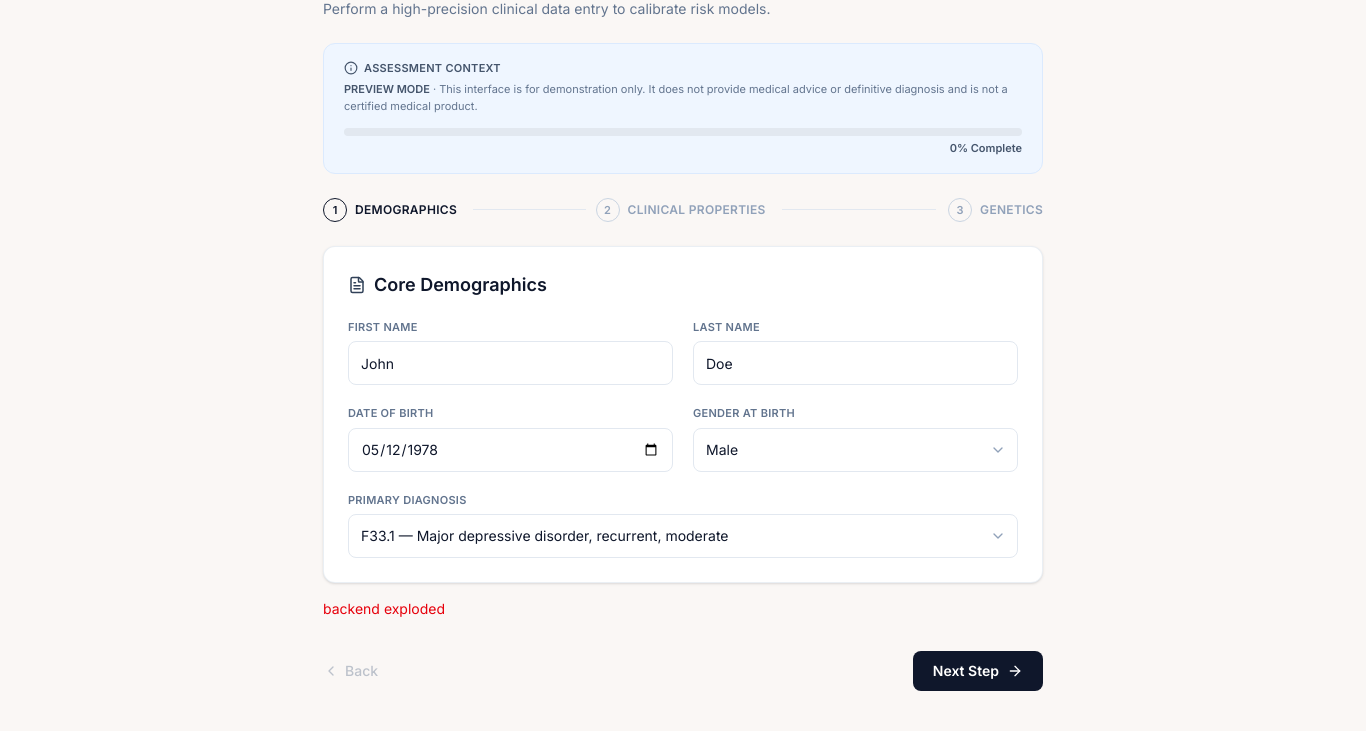
Test case: IntakeView › shows a submit error and disables the calculate button while submitting
The image size is (1366, 731).
(page scrolled)
Click the button "Next Step": (978, 671) x1=913 y1=651 x2=1043 y2=691
(page scrolled)
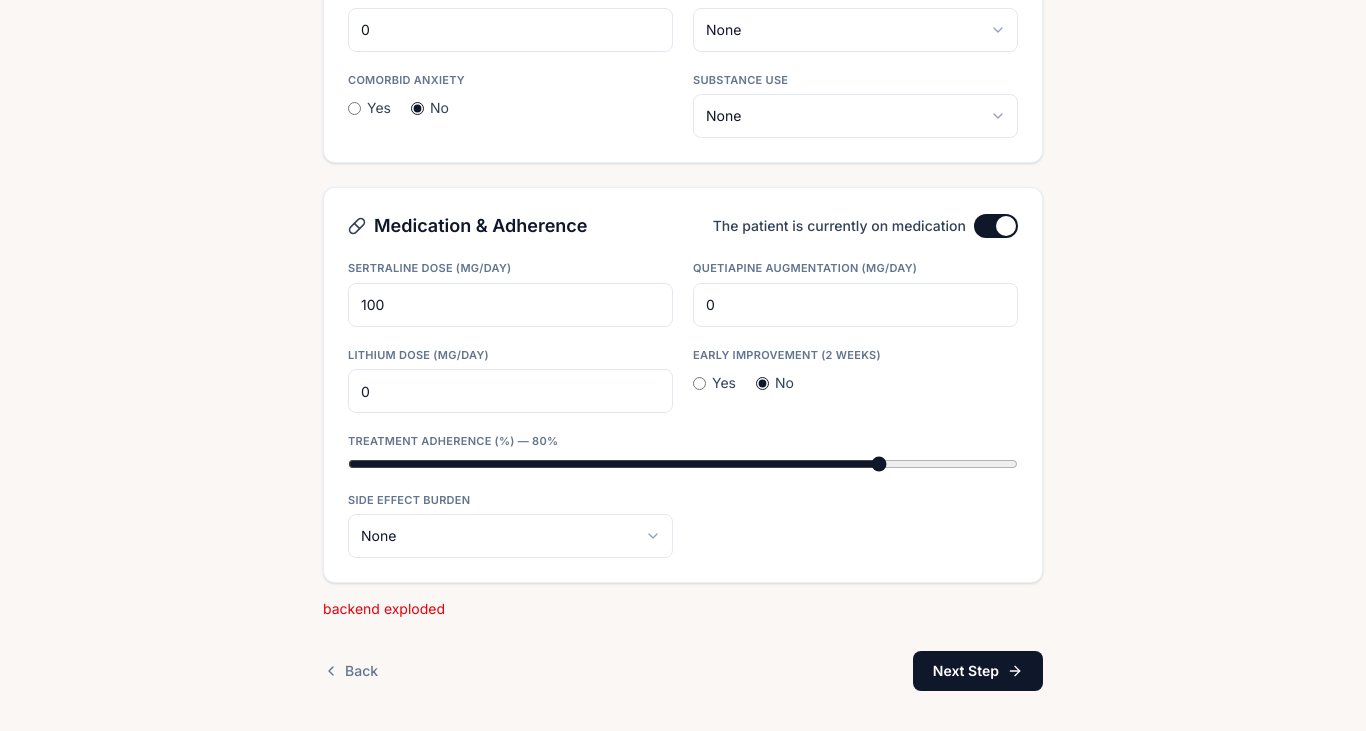
Click the button "Next Step": (978, 671) x1=913 y1=651 x2=1043 y2=691
(page scrolled)
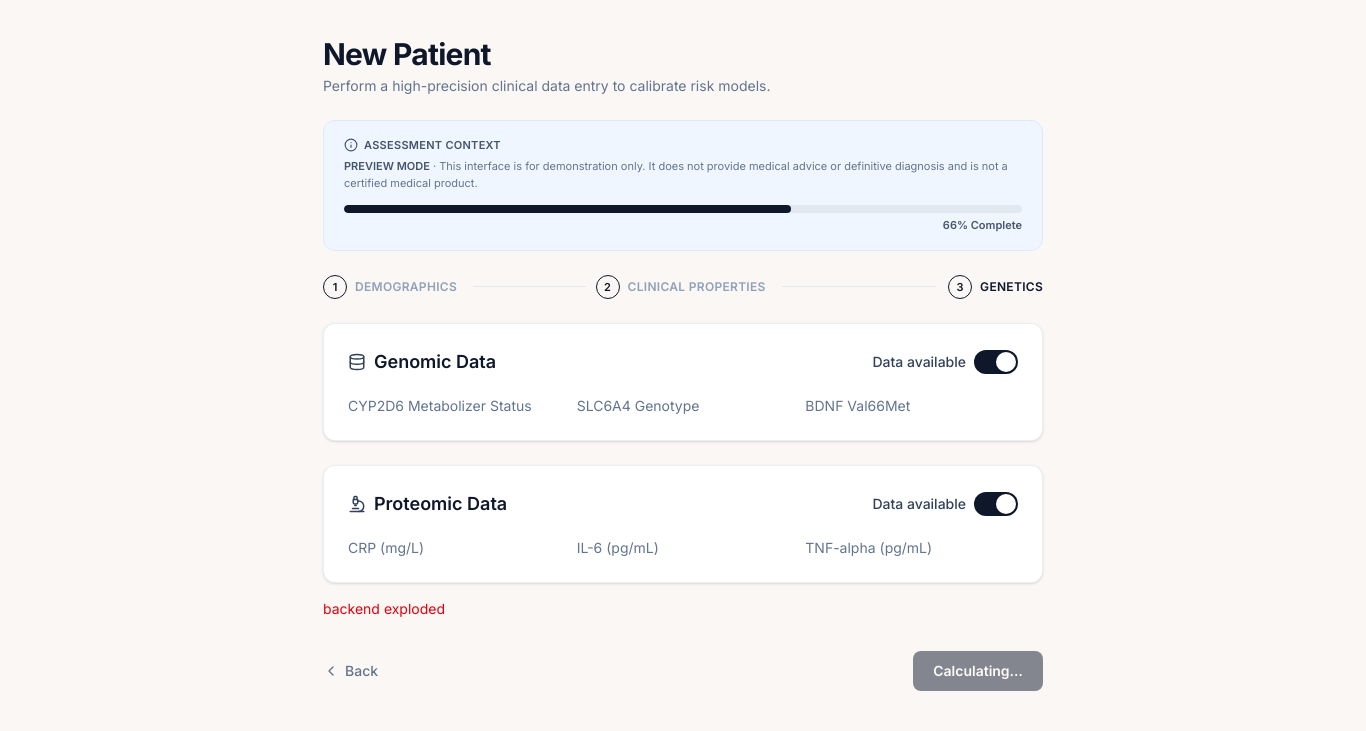
expect the text "backend exploded" is shown: met, box x1=323 y1=600 x2=445 y2=617
expect the button "Calculating…" is disabled: met, box x1=913 y1=651 x2=1043 y2=691
